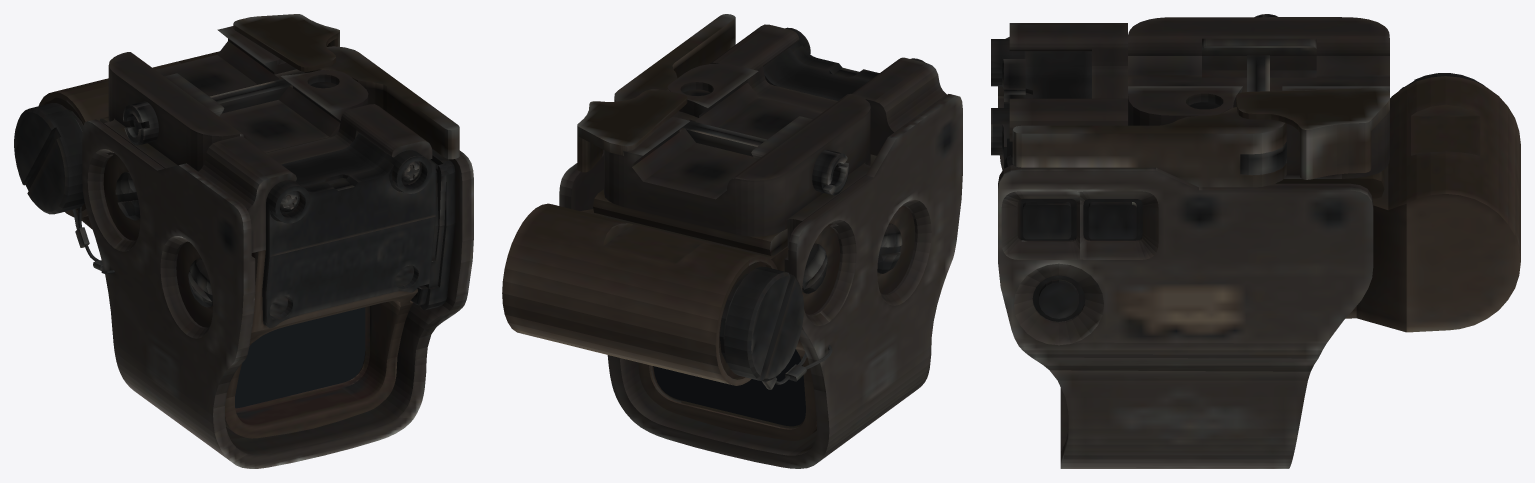
The picture shows the model from 3 angles, left to right: view 1: azimuth 30°, elevation 25°; view 2: azimuth 150°, elevation 25°; view 3: azimuth 270°, elevation 25°; orthographic projection. The views are drawn at different scales.
Visible parts, largest first — view 1: TW_558022b54bdc2dac148b458d_PZ_Import; view 2: TW_558022b54bdc2dac148b458d_PZ_Import; view 3: TW_558022b54bdc2dac148b458d_PZ_Import.
Part boxes in pixels (x1,y1,x2,y2): TW_558022b54bdc2dac148b458d_PZ_Import: (14, 14, 473, 468); TW_558022b54bdc2dac148b458d_PZ_Import: (502, 14, 962, 468); TW_558022b54bdc2dac148b458d_PZ_Import: (991, 14, 1520, 468).
Size of the model in its own units: 0.0322 by 0.0524 by 0.0405.
Materials: 1 (1 with a texture image).
